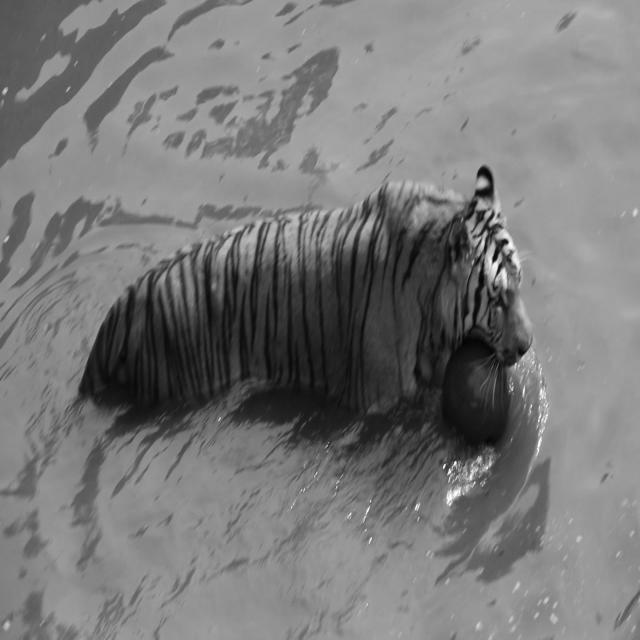Tiger: (78, 164, 534, 417)
